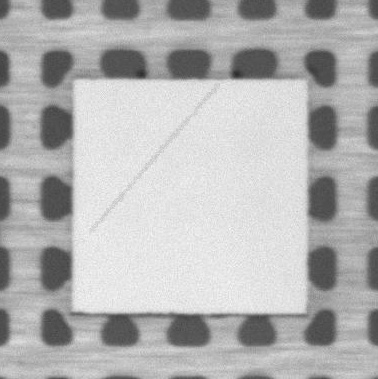DIE_CRACK: (91, 85, 217, 232)
